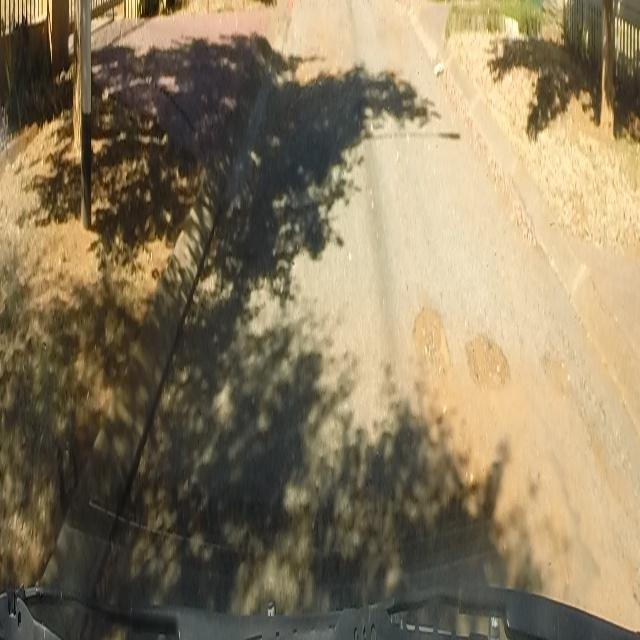pothole: (408, 294, 451, 382), (463, 330, 512, 402)
